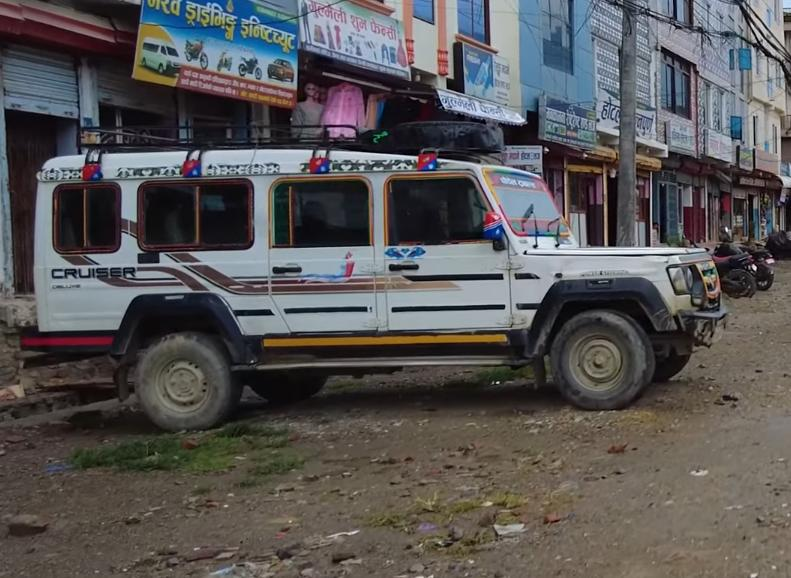SUV: (27, 134, 732, 434)
